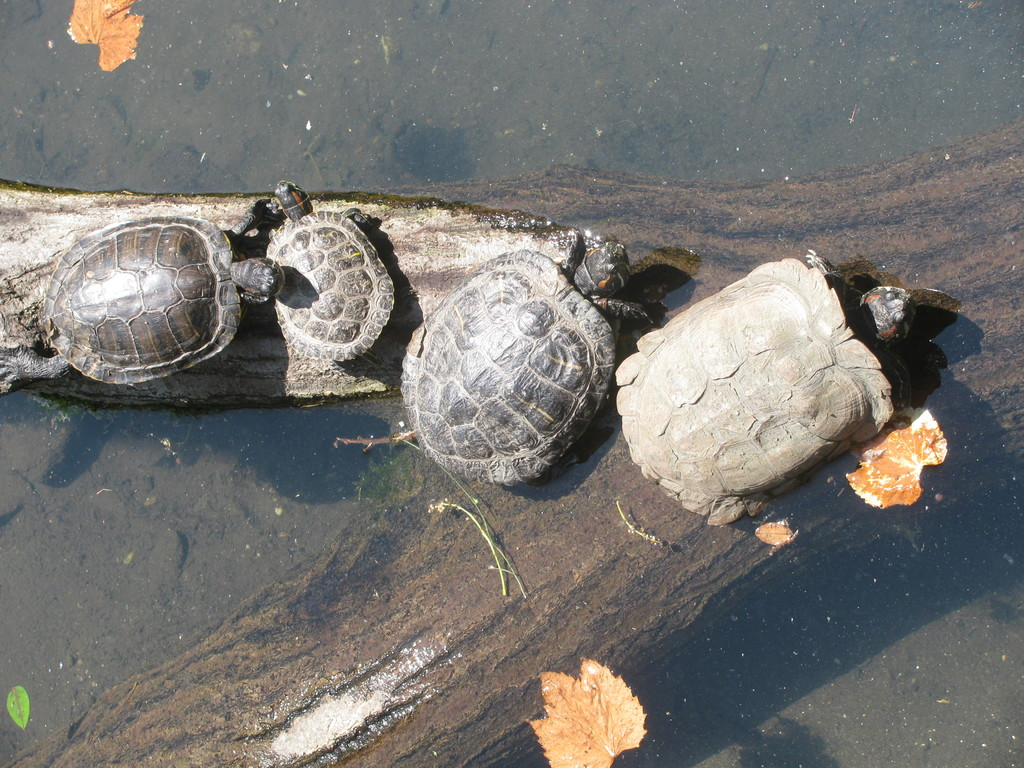Sea turtles: (611, 244, 919, 531), (397, 232, 646, 487), (0, 194, 286, 394), (256, 181, 397, 362)
